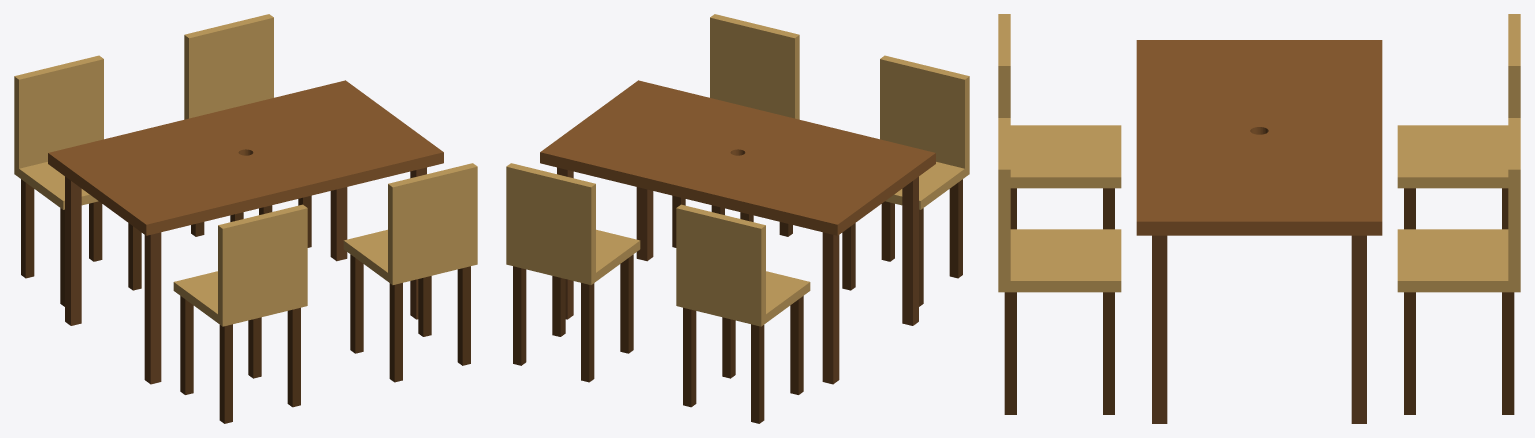
File: mesa_com_cadeiras.glb
The picture shows the model from 3 angles, left to right: view 1: azimuth 30°, elevation 25°; view 2: azimuth 150°, elevation 25°; view 3: azimuth 270°, elevation 25°; orthographic projection. The views are drawn at different scales.
Parts seen in each view (by area): view 1: box_1 (tampo_mesa), box_24 (encosto_c3), box_29 (encosto_c4), box_14 (encosto_c1), box_19 (encosto_c2), box_5 (perna_mesa_4), box_3 (perna_mesa_2), box_8 (assento_cadeira_3), box_9 (assento_cadeira_4), box_6 (assento_cadeira_1), box_20 (perna_c3_a), box_25 (perna_c4_a) (+12 smaller); view 2: box_1 (tampo_mesa), box_14 (encosto_c1), box_19 (encosto_c2), box_24 (encosto_c3), box_29 (encosto_c4), box_3 (perna_mesa_2), box_5 (perna_mesa_4), box_6 (assento_cadeira_1), box_7 (assento_cadeira_2), box_8 (assento_cadeira_3), box_11 (perna_c1_b), box_16 (perna_c2_b) (+12 smaller); view 3: box_1 (tampo_mesa), box_7 (assento_cadeira_2), box_9 (assento_cadeira_4), box_6 (assento_cadeira_1), box_8 (assento_cadeira_3), box_2 (perna_mesa_1), box_4 (perna_mesa_3), box_19 (encosto_c2), box_29 (encosto_c4), box_15 (perna_c2_a), box_26 (perna_c4_b), box_17 (perna_c2_c) (+5 smaller).
Boxes of the visible parts, <box> form: box_1 (tampo_mesa): <box>48,80,443,235</box>; box_24 (encosto_c3): <box>218,204,307,317</box>; box_29 (encosto_c4): <box>388,163,477,276</box>; box_14 (encosto_c1): <box>14,55,103,168</box>; box_19 (encosto_c2): <box>184,14,273,119</box>; box_5 (perna_mesa_4): <box>144,232,161,384</box>; box_3 (perna_mesa_2): <box>65,176,81,325</box>; box_8 (assento_cadeira_3): <box>173,271,307,326</box>; box_9 (assento_cadeira_4): <box>343,229,477,284</box>; box_6 (assento_cadeira_1): <box>14,162,98,209</box>; box_20 (perna_c3_a): <box>219,324,232,423</box>; box_25 (perna_c4_a): <box>389,283,402,382</box>; box_1 (tampo_mesa): <box>540,80,935,235</box>; box_14 (encosto_c1): <box>676,204,765,317</box>; box_19 (encosto_c2): <box>506,163,595,276</box>; box_24 (encosto_c3): <box>880,55,969,168</box>; box_29 (encosto_c4): <box>710,14,799,119</box>; box_3 (perna_mesa_2): <box>822,232,839,384</box>; box_5 (perna_mesa_4): <box>902,176,918,325</box>; box_6 (assento_cadeira_1): <box>676,271,810,326</box>; box_7 (assento_cadeira_2): <box>506,229,640,284</box>; box_8 (assento_cadeira_3): <box>885,162,969,209</box>; box_11 (perna_c1_b): <box>751,324,764,423</box>; box_16 (perna_c2_b): <box>581,283,594,382</box>; box_1 (tampo_mesa): <box>1136,40,1382,235</box>; box_7 (assento_cadeira_2): <box>1397,229,1520,292</box>; box_9 (assento_cadeira_4): <box>998,229,1121,292</box>; box_6 (assento_cadeira_1): <box>1397,125,1508,188</box>; box_8 (assento_cadeira_3): <box>1010,125,1121,188</box>; box_2 (perna_mesa_1): <box>1351,235,1366,423</box>; box_4 (perna_mesa_3): <box>1152,235,1167,423</box>; box_19 (encosto_c2): <box>1508,118,1520,280</box>; box_29 (encosto_c4): <box>998,118,1010,280</box>; box_15 (perna_c2_a): <box>1502,292,1514,414</box>; box_26 (perna_c4_b): <box>1004,292,1016,414</box>; box_17 (perna_c2_c): <box>1404,292,1415,414</box>.
Bounding box in the file's own units: 1.4 × 0.89 × 1.7.
